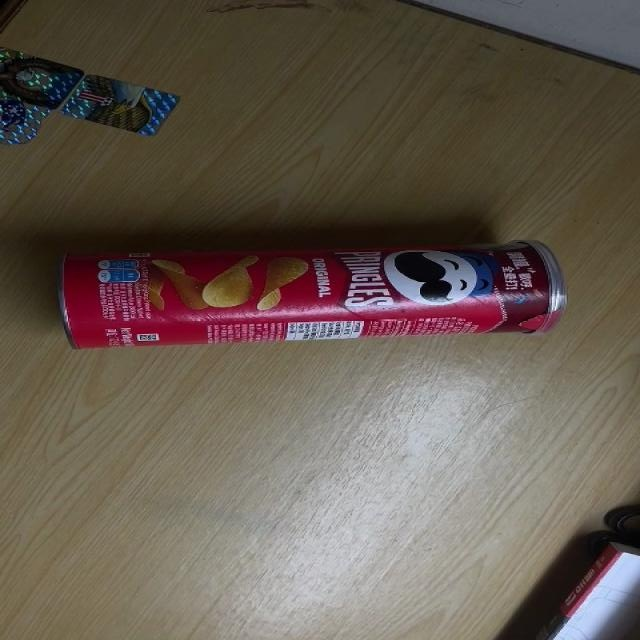Pringles: (56, 237, 570, 350)
